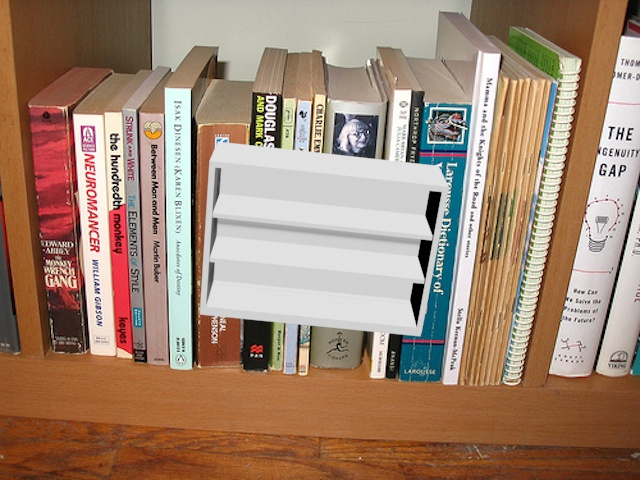bookcase: (193, 137, 456, 344)
